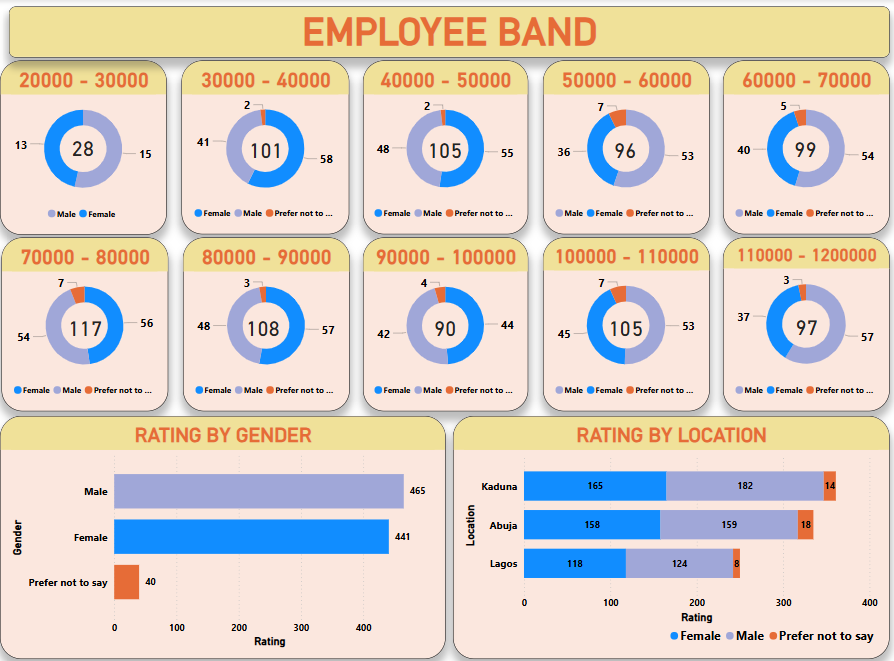

What the dashboard file says about the page in this screenshot:
{"tool":"powerbi","page":{"name":"Page 2","canvas":[1350,880],"ordinal":1},"visuals":[{"type":"donutChart","title":"20000 - 30000","fields":{"Y":["Palmoria Group Employee Data.Name"],"Category":["Palmoria Group Employee Data.Gender"],"Series":["Palmoria Group Employee Data.Salary Band"]},"box":[0,80.7,220,230],"z":0},{"type":"textbox","title":"EMPLOYEE BAND","box":[11.9,9.9,1161.7,67.3],"z":1000},{"type":"donutChart","title":"30000 - 40000","fields":{"Y":["Palmoria Group Employee Data.Name"],"Category":["Palmoria Group Employee Data.Gender"],"Series":["Palmoria Group Employee Data.Salary Band"]},"box":[238.7,81.1,221.7,229.6],"z":2000},{"type":"donutChart","title":"40000 - 50000","fields":{"Y":["Palmoria Group Employee Data.Name"],"Series":["Palmoria Group Employee Data.Salary Band"],"Category":["Palmoria Group Employee Data.Gender"]},"box":[479.1,81.1,217.7,229.6],"z":3000},{"type":"donutChart","title":"50000 - 60000","fields":{"Y":["Palmoria Group Employee Data.Name"],"Category":["Palmoria Group Employee Data.Gender"],"Series":["Palmoria Group Employee Data.Salary Band"]},"box":[715.5,81.1,219.7,229.6],"z":4000},{"type":"donutChart","title":"60000 - 70000","fields":{"Y":["Palmoria Group Employee Data.Name"],"Category":["Palmoria Group Employee Data.Gender"],"Series":["Palmoria Group Employee Data.Salary Band"]},"box":[953.9,81.1,219.7,229.6],"z":5000},{"type":"donutChart","title":"70000 - 80000","fields":{"Y":["Palmoria Group Employee Data.Name"],"Series":["Palmoria Group Employee Data.Salary Band"],"Category":["Palmoria Group Employee Data.Gender"]},"box":[2,314.7,219.7,229.6],"z":6000},{"type":"donutChart","title":"80000 - 90000","fields":{"Y":["Palmoria Group Employee Data.Name"],"Category":["Palmoria Group Employee Data.Gender"],"Series":["Palmoria Group Employee Data.Salary Band"]},"box":[240.5,314.7,219.7,229.6],"z":7000},{"type":"donutChart","title":"90000 - 100000","fields":{"Y":["Palmoria Group Employee Data.Name"],"Series":["Palmoria Group Employee Data.Salary Band"],"Category":["Palmoria Group Employee Data.Gender"]},"box":[478.9,314.7,217.7,229.6],"z":8000},{"type":"donutChart","title":"100000 - 110000","fields":{"Y":["Palmoria Group Employee Data.Name"],"Series":["Palmoria Group Employee Data.Salary Band"],"Category":["Palmoria Group Employee Data.Gender"]},"box":[715.4,314.7,219.7,229.6],"z":9000},{"type":"donutChart","title":"110000 - 1200000","fields":{"Y":["Palmoria Group Employee Data.Name"],"Series":["Palmoria Group Employee Data.Salary Band"],"Category":["Palmoria Group Employee Data.Gender"]},"box":[953.9,314.7,219.7,229.6],"z":10000},{"type":"card","fields":{"Values":["Palmoria Group Employee Data.Name"]},"box":[75.9,161.7,67.3,67.3],"z":11000},{"type":"card","fields":{"Values":["Palmoria Group Employee Data.Name"]},"box":[315.1,163.9,71.4,67.2],"z":12000},{"type":"card","fields":{"Values":["Palmoria Group Employee Data.Name"]},"box":[552.5,163.9,69.3,67.2],"z":13000},{"type":"card","fields":{"Values":["Palmoria Group Employee Data.Name"]},"box":[789.8,163.9,69.3,67.2],"z":14000},{"type":"card","fields":{"Values":["Palmoria Group Employee Data.Name"]},"box":[1027.9,163.2,69.9,68],"z":15000},{"type":"card","fields":{"Values":["Palmoria Group Employee Data.Name"]},"box":[77.2,399.8,69.3,67.3],"z":16000},{"type":"card","fields":{"Values":["Palmoria Group Employee Data.Name"]},"box":[310.9,399.1,71.4,67.2],"z":17000},{"type":"card","fields":{"Values":["Palmoria Group Employee Data.Name"]},"box":[552.5,399.1,69.3,67.2],"z":18000},{"type":"card","fields":{"Values":["Palmoria Group Employee Data.Name"]},"box":[789.8,399.1,71.4,67.2],"z":19000},{"type":"card","fields":{"Values":["Palmoria Group Employee Data.Name"]},"box":[1029.1,395.8,69.3,71.2],"z":20000},{"type":"barChart","title":"RATING BY GENDER","fields":{"Y":["Palmoria Group Employee Data.Rating"],"Category":["Palmoria Group Employee Data.Gender"]},"box":[0,550.2,587.8,320.6],"z":21000},{"type":"barChart","title":"RATING BY LOCATION","fields":{"Y":["Palmoria Group Employee Data.Rating"],"Category":["Palmoria Group Employee Data.Location"],"Series":["Palmoria Group Employee Data.Gender"]},"box":[597.7,550.2,575.9,320.6],"z":22000}]}

Visuals, with their boxes on the page's 1350x880 design canvas (x1, y1, x2, y2). These are canvas units, not pixel positions in the 894x661 screenshot, which may show the page scaled, cropped or inside an application window:
"20000 - 30000" donutChart: [0,81,220,311]
"EMPLOYEE BAND" textbox: [12,10,1174,77]
"30000 - 40000" donutChart: [239,81,460,311]
"40000 - 50000" donutChart: [479,81,697,311]
"50000 - 60000" donutChart: [716,81,935,311]
"60000 - 70000" donutChart: [954,81,1174,311]
"70000 - 80000" donutChart: [2,315,222,544]
"80000 - 90000" donutChart: [240,315,460,544]
"90000 - 100000" donutChart: [479,315,697,544]
"100000 - 110000" donutChart: [715,315,935,544]
"110000 - 1200000" donutChart: [954,315,1174,544]
card - Palmoria Group Employee Data.Name: [76,162,143,229]
card - Palmoria Group Employee Data.Name: [315,164,386,231]
card - Palmoria Group Employee Data.Name: [552,164,622,231]
card - Palmoria Group Employee Data.Name: [790,164,859,231]
card - Palmoria Group Employee Data.Name: [1028,163,1098,231]
card - Palmoria Group Employee Data.Name: [77,400,146,467]
card - Palmoria Group Employee Data.Name: [311,399,382,466]
card - Palmoria Group Employee Data.Name: [552,399,622,466]
card - Palmoria Group Employee Data.Name: [790,399,861,466]
card - Palmoria Group Employee Data.Name: [1029,396,1098,467]
"RATING BY GENDER" barChart: [0,550,588,871]
"RATING BY LOCATION" barChart: [598,550,1174,871]
